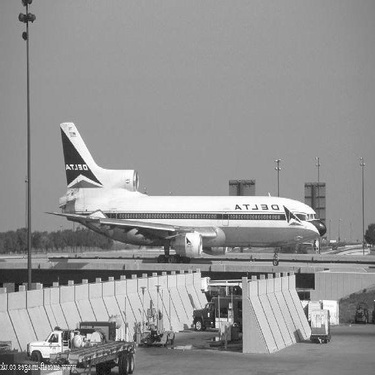airplane: (28, 112, 337, 272)
